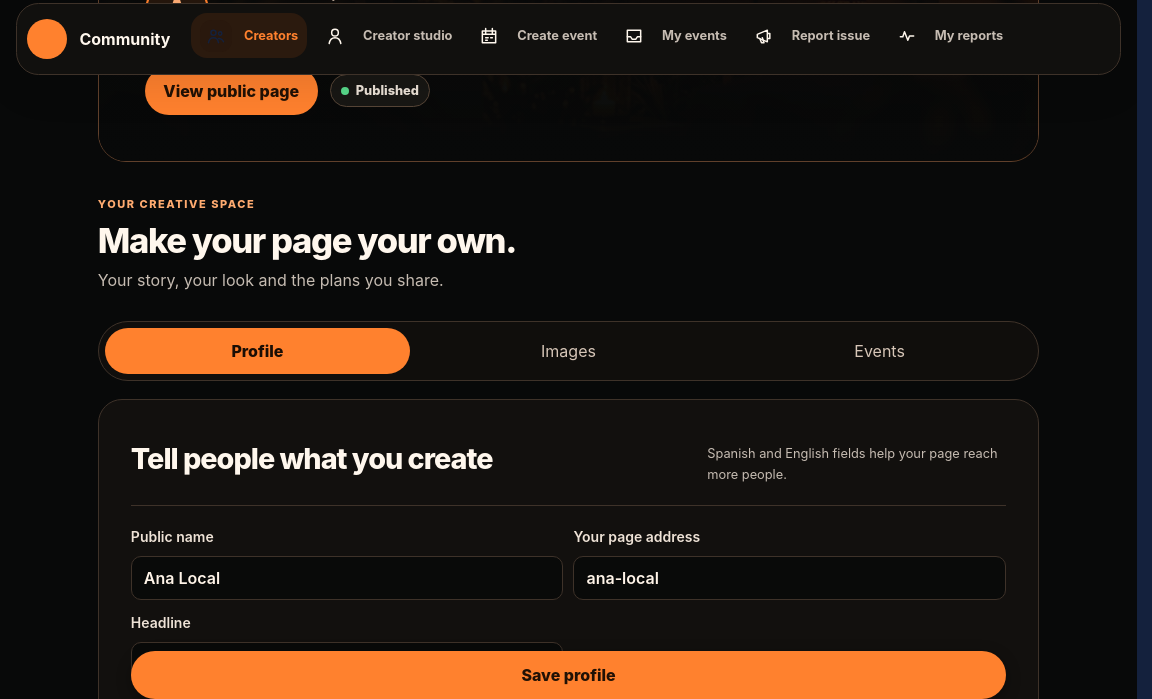
Test: does not label a failed en event history as empty
The width and height of the screenshot is (1152, 699).
(page scrolled)
Click the tab "Events" at (880, 352), box [727, 328, 1032, 374]
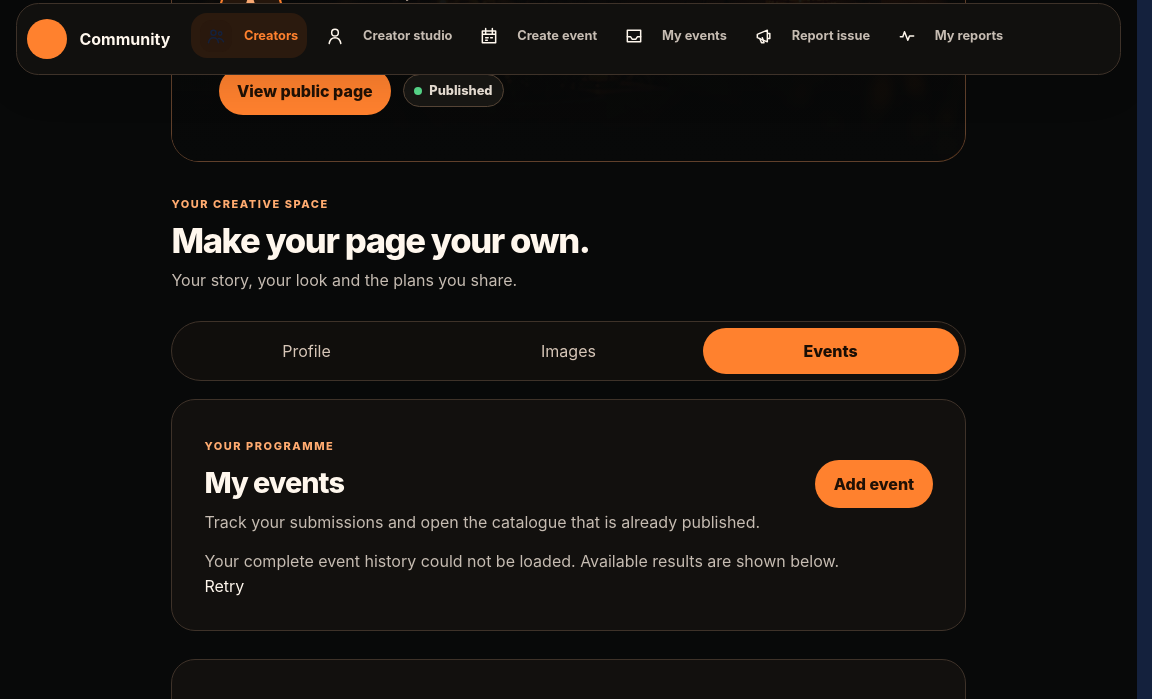
Now the message shows "Your complete event history could not be loaded", box [204, 550, 839, 570]
